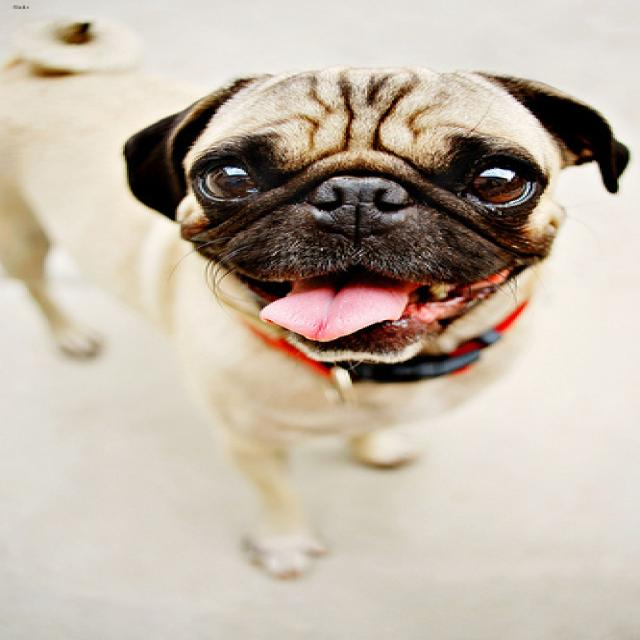dog-pug: (2, 1, 636, 588)
